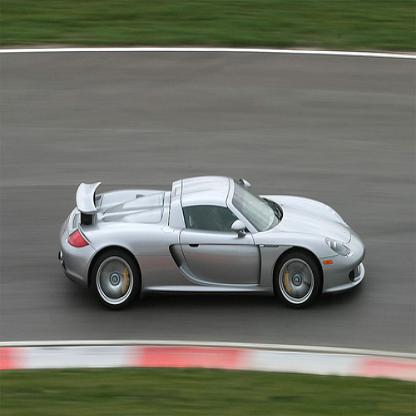car: (57, 174, 365, 312)
